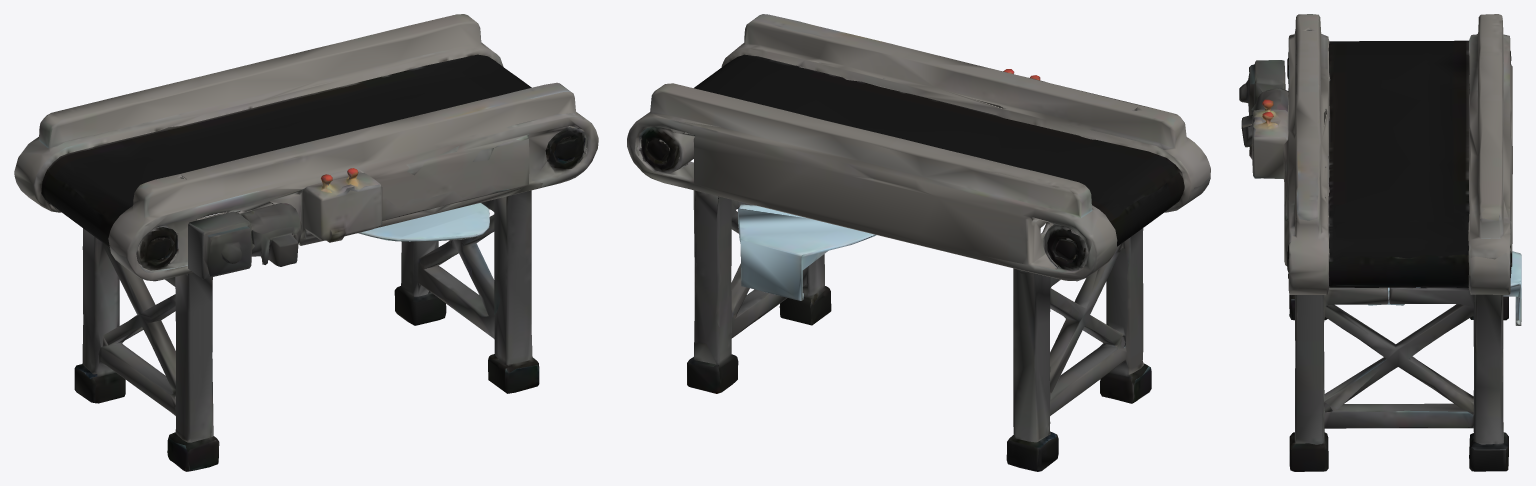
Rendered from conveyor.glb.
The picture shows the model from 3 angles, left to right: view 1: azimuth 30°, elevation 25°; view 2: azimuth 150°, elevation 25°; view 3: azimuth 270°, elevation 25°; orthographic projection. The views are drawn at different scales.
Parts seen in each view (by area): view 1: geometry_0; view 2: geometry_0; view 3: geometry_0.
Part boxes in pixels (box(x1,y1,x2,y2)): geometry_0: box(14, 14, 598, 471); geometry_0: box(627, 14, 1210, 471); geometry_0: box(1239, 14, 1521, 471).
Bounding box in the file's own units: 1 × 0.5833 × 0.5368.
Materials: 1 (1 with a texture image).
